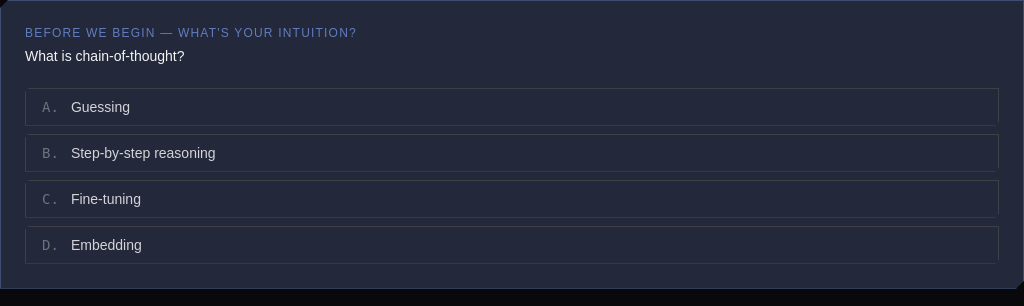
Scenario: PredictionQuestion › disables options after selection
The width and height of the screenshot is (1024, 306).
Click the button with test id "prediction-option-0".
click(100, 107)  # box [25,88,999,126]
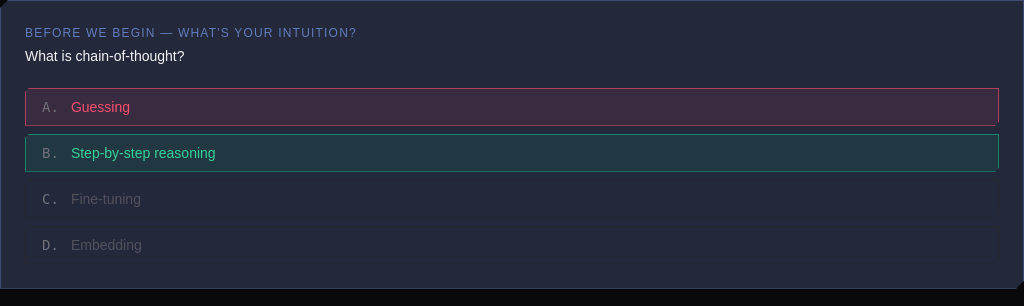
Now the button with test id "prediction-option-1" is disabled, box [25,134,999,172]
